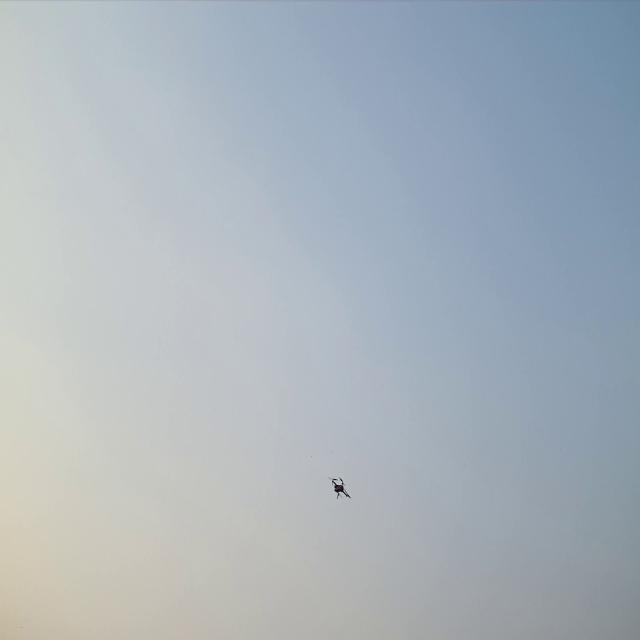UAV: (327, 474, 352, 501)
